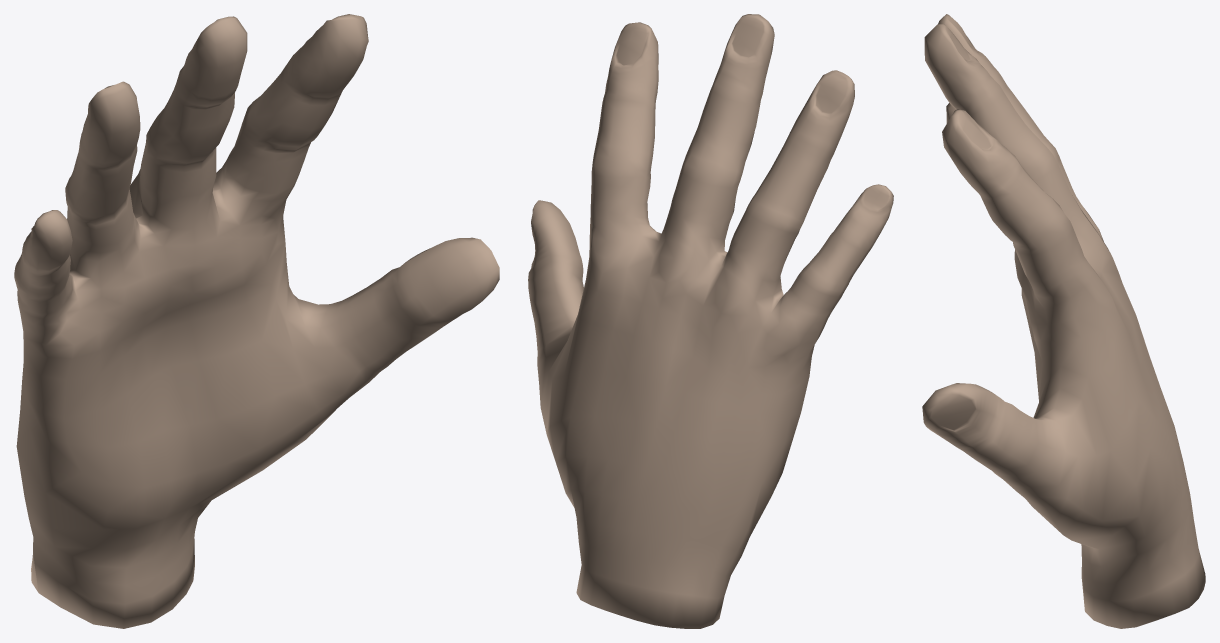
File: Wallmaster.fbx
3 renders of one model, left to right at view 1: azimuth 30°, elevation 25°; view 2: azimuth 150°, elevation 25°; view 3: azimuth 270°, elevation 25°, orthographic. The views are drawn at different scales.
Visible parts, largest first — view 1: humanMesh; view 2: humanMesh; view 3: humanMesh.
Part boxes in pixels (box(x1,y1,x2,y2)): humanMesh: box(14, 14, 499, 628); humanMesh: box(528, 14, 893, 628); humanMesh: box(922, 14, 1205, 628).
Bounding box in the file's own units: 15.03 × 21.35 × 9.42.
